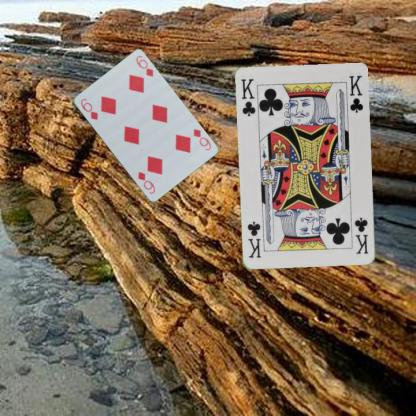6d: (190, 126, 212, 152), (77, 96, 99, 121)
Kc: (239, 76, 257, 118), (352, 215, 370, 255)
